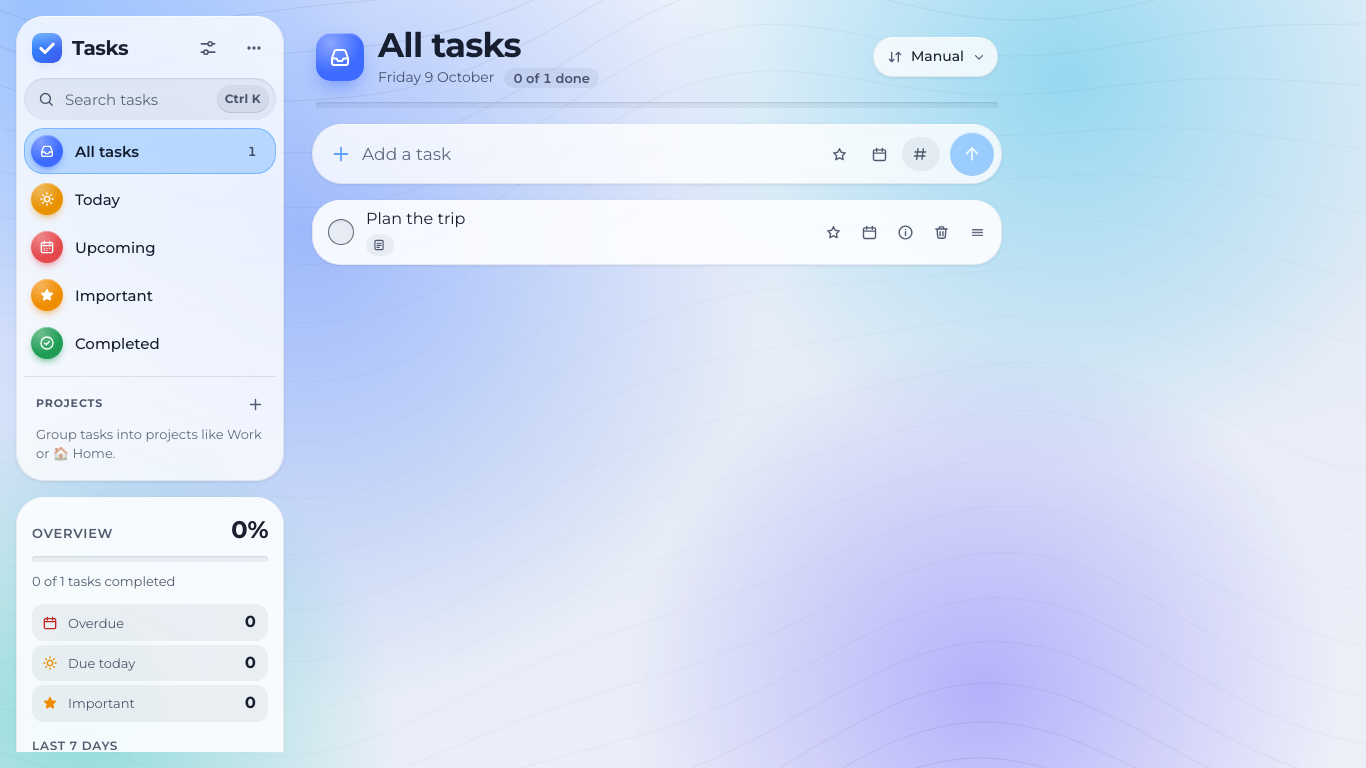
Test: CommandPalette › finds tasks and opens their details
Type keys "{Meta>}k{/Meta}"
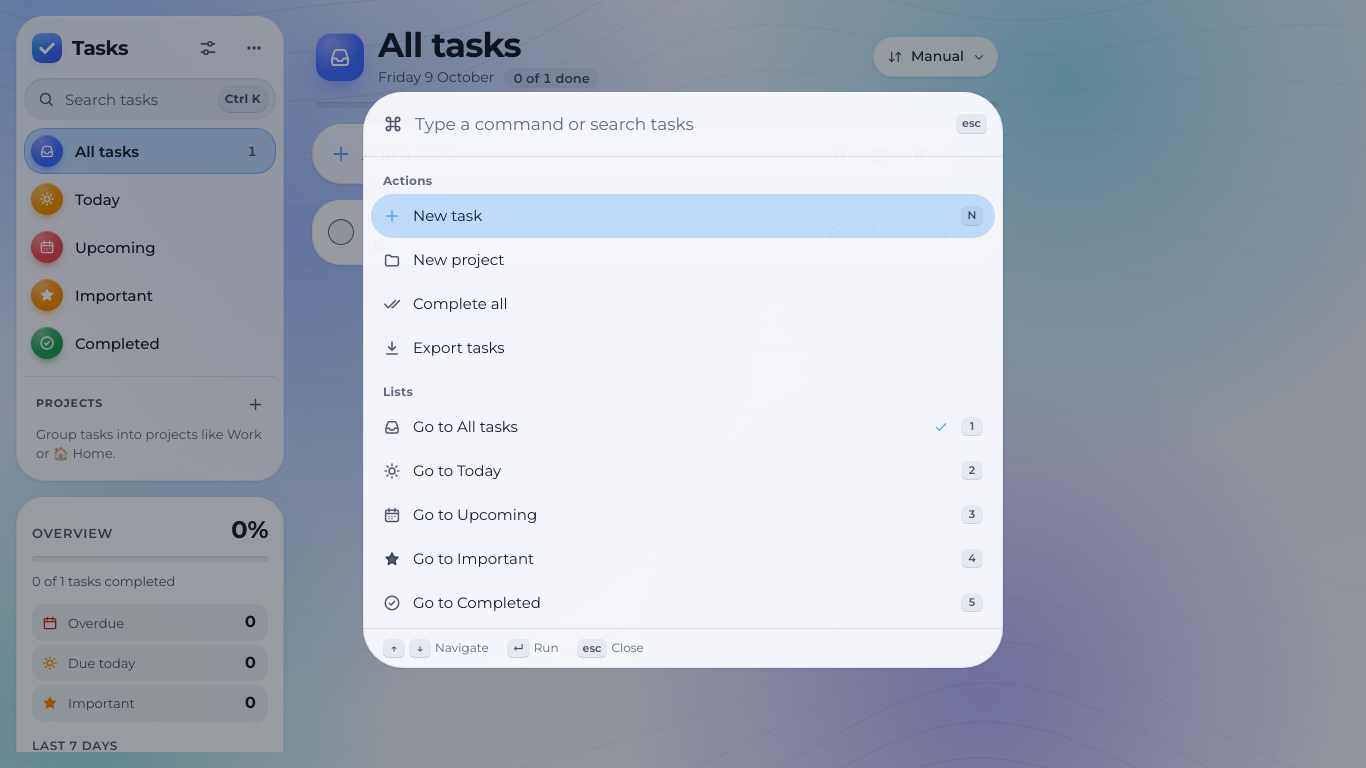
Type "hotel" into the dropdown named "Command palette". click: (680, 124)
box: [415,106,944,142]
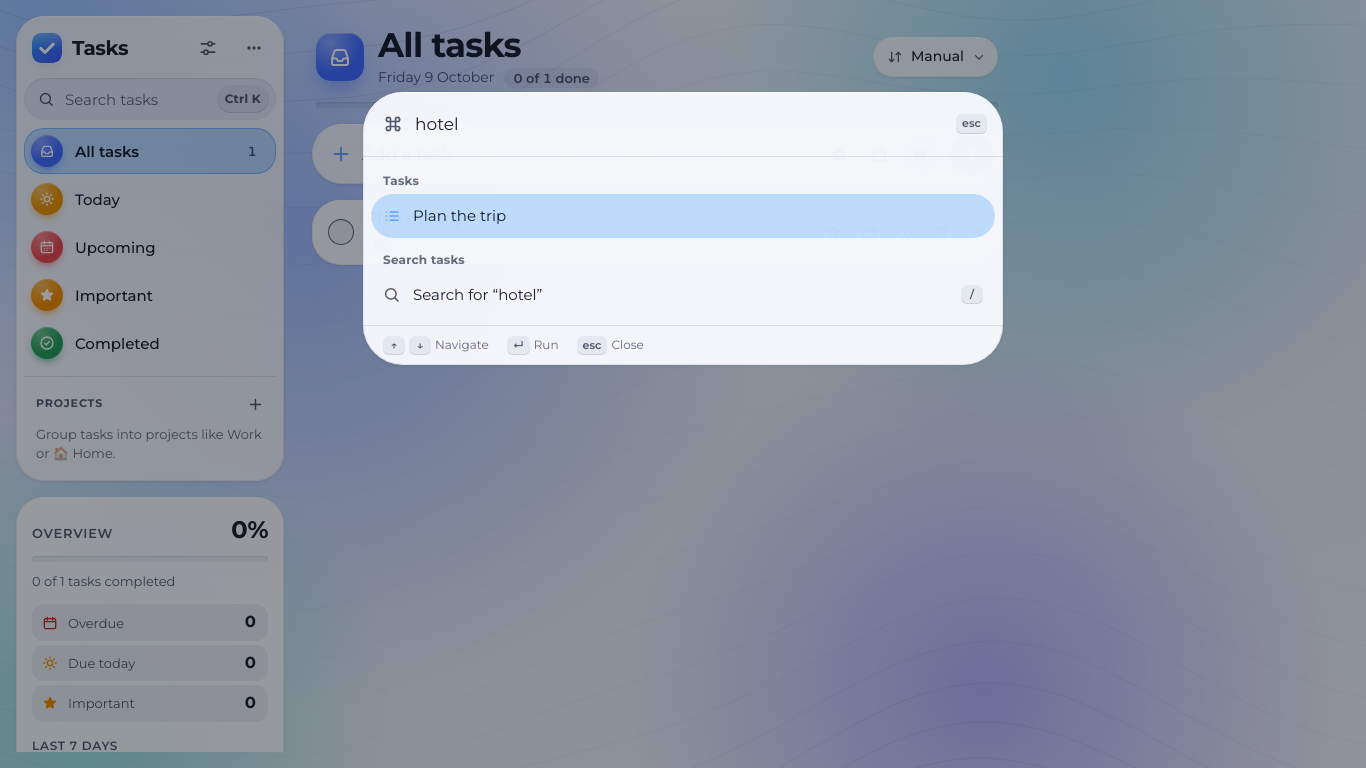
Click the option "Plan the trip". click: (460, 216)
box: [371,194,995,238]
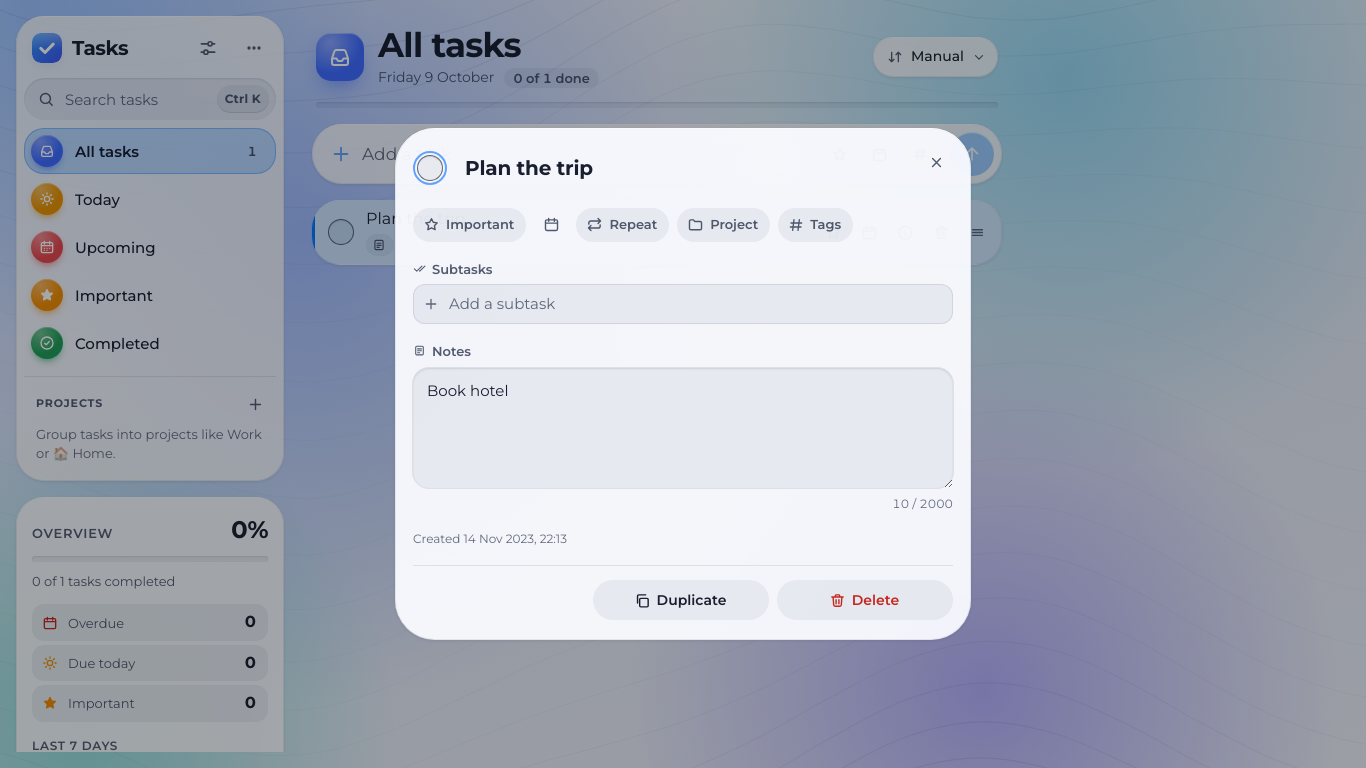
Result: the dialog named "Task details" is shown at [395,128,971,640]
Result: the text box labelled "Notes" holds "Book hotel" at [413,368,953,488]
